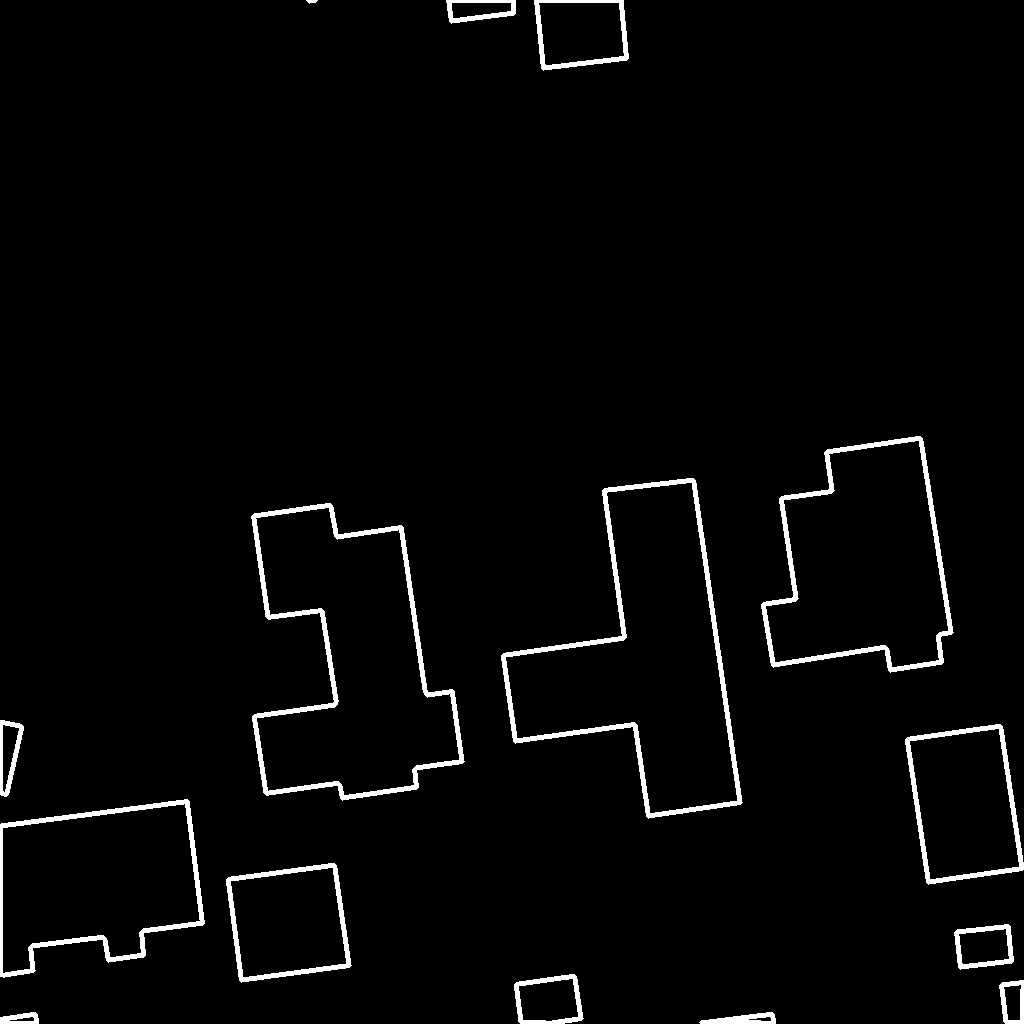building: (503, 480, 741, 817), (253, 505, 463, 799), (763, 438, 952, 671), (0, 801, 204, 976), (907, 726, 1023, 883), (228, 865, 350, 981), (536, 0, 628, 69), (516, 976, 582, 1024), (956, 926, 1013, 968), (0, 722, 23, 796), (448, 0, 515, 22), (1001, 982, 1024, 1024), (697, 1014, 775, 1024), (0, 1014, 38, 1024), (308, 0, 320, 2)
